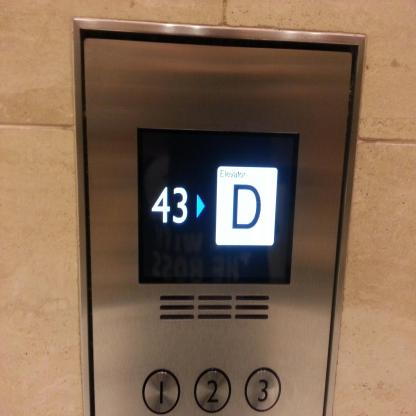1: (142, 368, 180, 414)
2: (194, 368, 231, 413)
3: (245, 367, 280, 412)
led: (137, 127, 299, 286)
